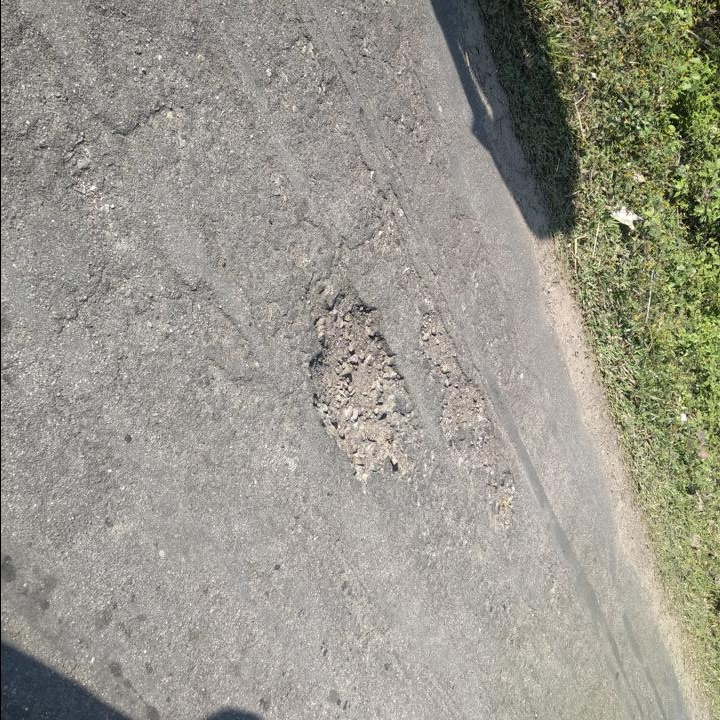pothole: (305, 272, 420, 489), (415, 300, 492, 462), (483, 469, 522, 535)
